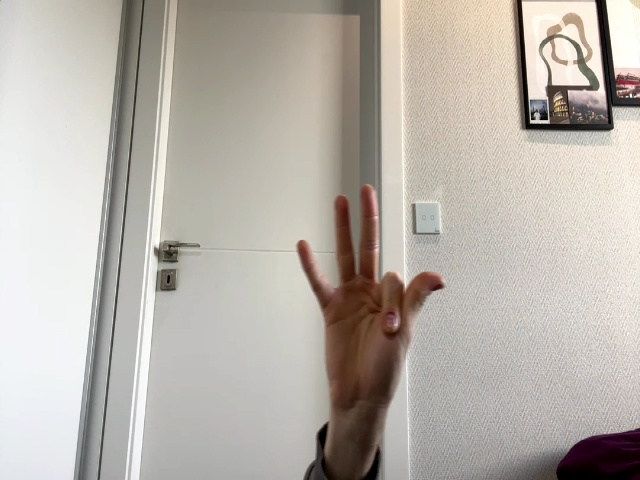F: (299, 185, 445, 405)
